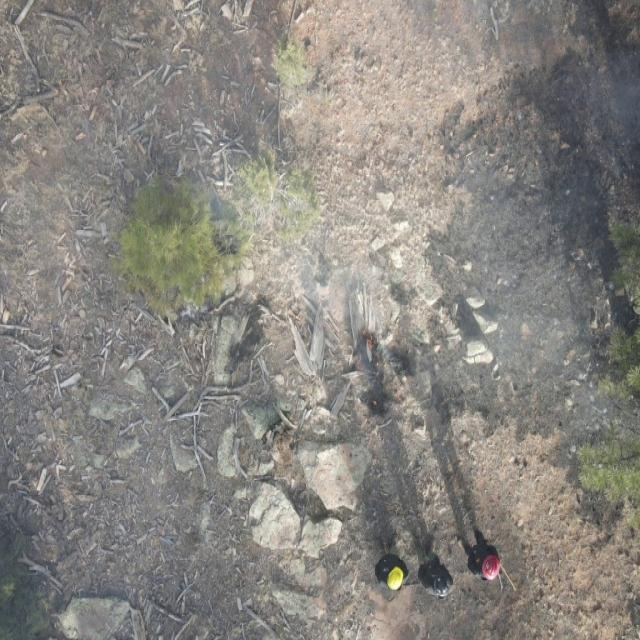fire: (358, 324, 379, 355), (370, 398, 380, 410)
smoke: (0, 1, 640, 449), (0, 447, 381, 640)
